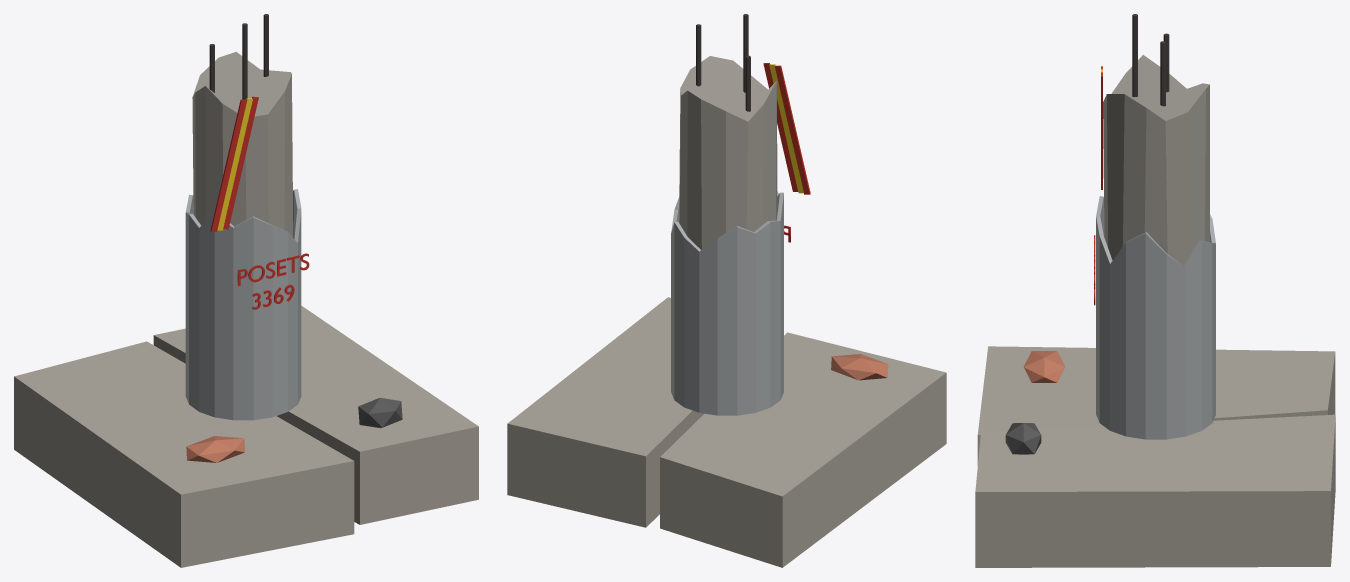
The model's file is cima-posets.glb.
The picture shows the model from 3 angles, left to right: view 1: azimuth 30°, elevation 25°; view 2: azimuth 150°, elevation 25°; view 3: azimuth 270°, elevation 25°; orthographic projection. The views are drawn at different scales.
Visible parts, largest first — view 1: base0, base1, funda, pilar, piedra_pintada, losa, cinta0, cinta2, cinta1, rotulo0; view 2: base0, base1, funda, pilar, piedra_pintada, cinta0, cinta1, cinta2; view 3: base1, funda, pilar, base0, piedra_pintada, losa, hierro1.
Boxes of the visible parts, x1=… form: base0: x1=14, y1=341, x2=354, y2=567; base1: x1=153, y1=306, x2=478, y2=524; funda: x1=185, y1=189, x2=301, y2=420; pilar: x1=192, y1=51, x2=293, y2=237; piedra_pintada: x1=186, y1=436, x2=244, y2=462; losa: x1=358, y1=398, x2=402, y2=428; cinta0: x1=210, y1=99, x2=247, y2=231; cinta2: x1=223, y1=96, x2=258, y2=229; cinta1: x1=217, y1=98, x2=252, y2=230; rotulo0: x1=237, y1=253, x2=309, y2=286; base0: x1=660, y1=332, x2=946, y2=567; base1: x1=507, y1=297, x2=703, y2=527; funda: x1=671, y1=191, x2=783, y2=415; pilar: x1=679, y1=56, x2=777, y2=249; piedra_pintada: x1=831, y1=354, x2=888, y2=380; cinta0: x1=775, y1=65, x2=810, y2=194; cinta1: x1=769, y1=64, x2=803, y2=193; cinta2: x1=763, y1=63, x2=798, y2=191; base1: x1=975, y1=414, x2=1335, y2=567; funda: x1=1096, y1=196, x2=1215, y2=439; pilar: x1=1103, y1=55, x2=1209, y2=265; base0: x1=977, y1=346, x2=1335, y2=465; piedra_pintada: x1=1024, y1=351, x2=1064, y2=382; losa: x1=1005, y1=423, x2=1041, y2=454; hierro1: x1=1132, y1=14, x2=1137, y2=96.
Size of the model in its own units: 1 by 1.52 by 1.03.
